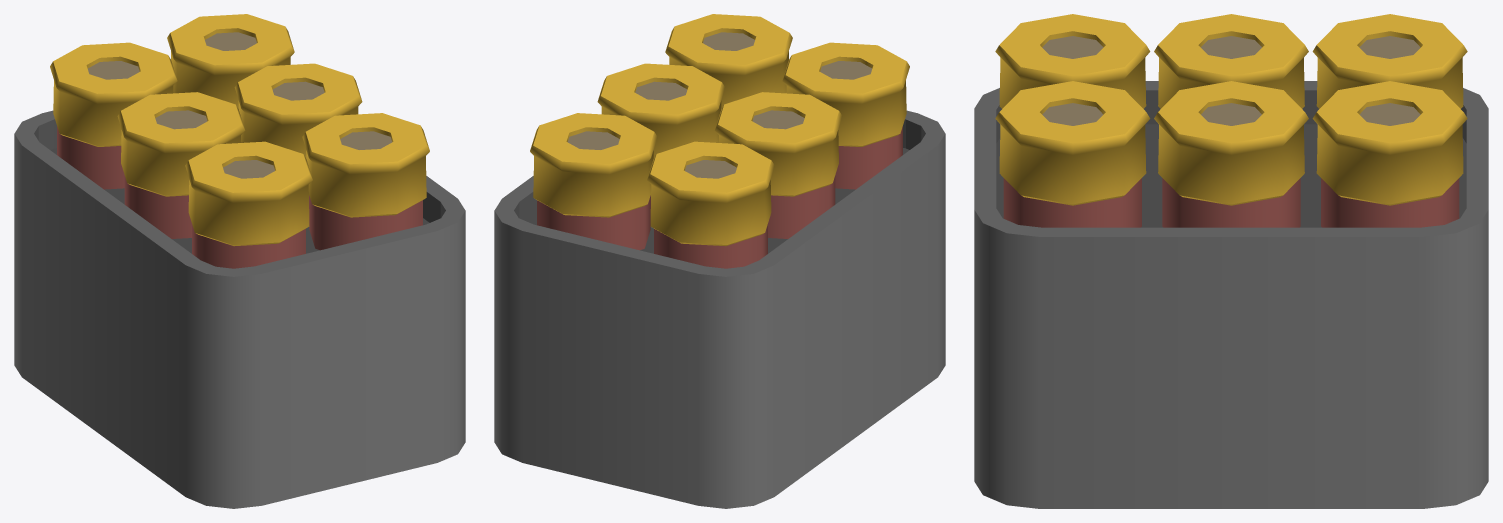
The model's file is Bullet Crate 2.fbx.
3 views of the same model, side by side, from view 1: azimuth 30°, elevation 25°; view 2: azimuth 150°, elevation 25°; view 3: azimuth 270°, elevation 25° (orthographic). The views are drawn at different scales.
Visible parts, largest first — view 1: Cube, Cylinder; view 2: Cube, Cylinder; view 3: Cube, Cylinder.
Part boxes in pixels (x1,y1,x2,y2): Cube: [14, 110, 465, 508]; Cylinder: [50, 14, 429, 268]; Cube: [494, 110, 945, 508]; Cylinder: [530, 14, 909, 268]; Cube: [974, 81, 1488, 508]; Cylinder: [995, 14, 1467, 227].
Size of the model in its own units: 86 by 90.7 by 120.
